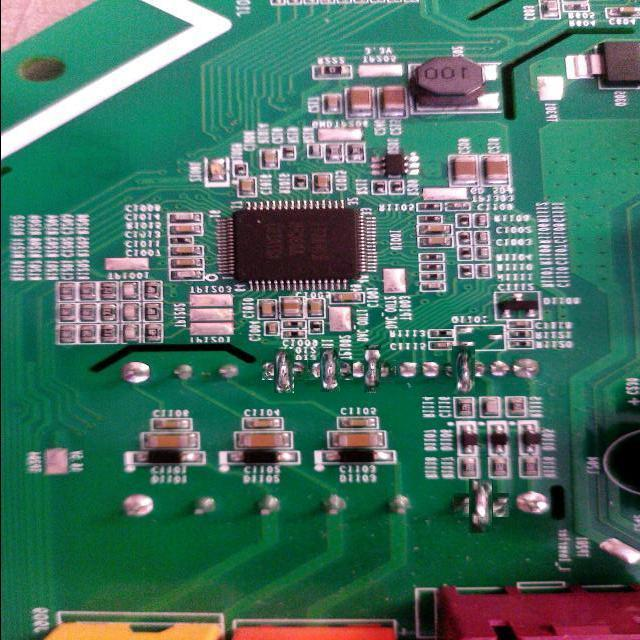Short_circuit: (462, 486, 501, 525), (445, 352, 481, 388), (356, 352, 389, 386), (268, 354, 301, 387), (314, 354, 347, 386)
